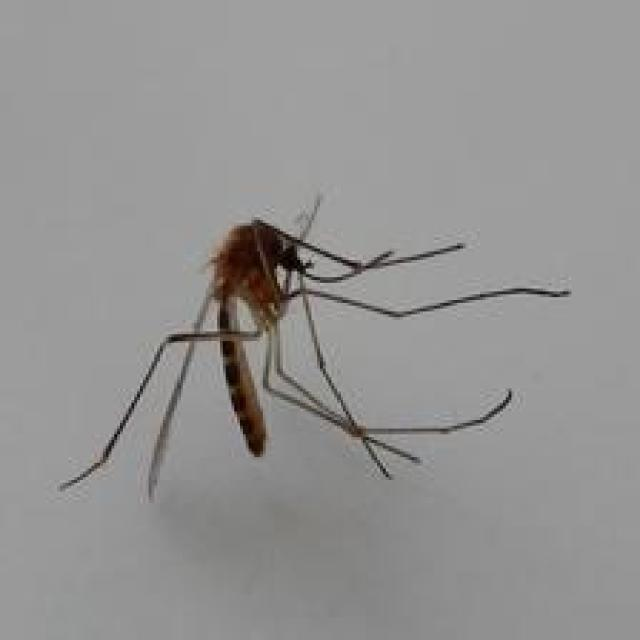Culex: (57, 191, 572, 503)
